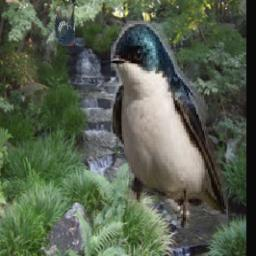Swallow: (111, 22, 228, 230)
Woodpecker: (54, 7, 76, 47)
